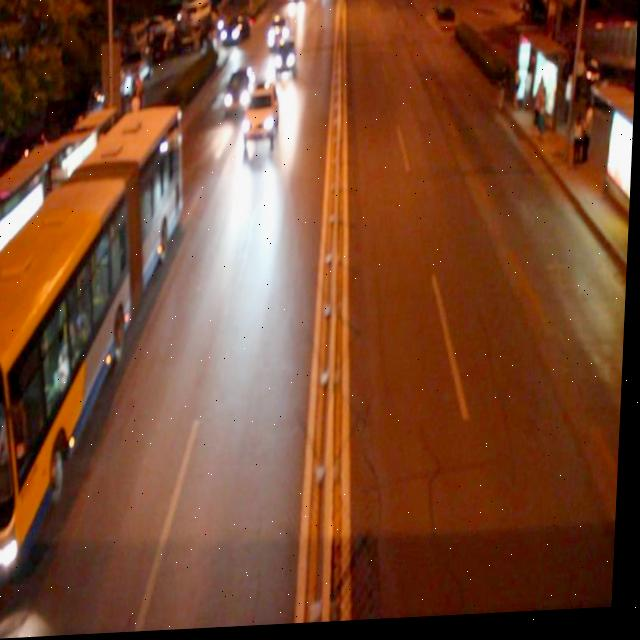car: (243, 84, 280, 146), (222, 68, 255, 114), (273, 40, 297, 81), (266, 15, 289, 52)
van: (0, 107, 184, 592)
